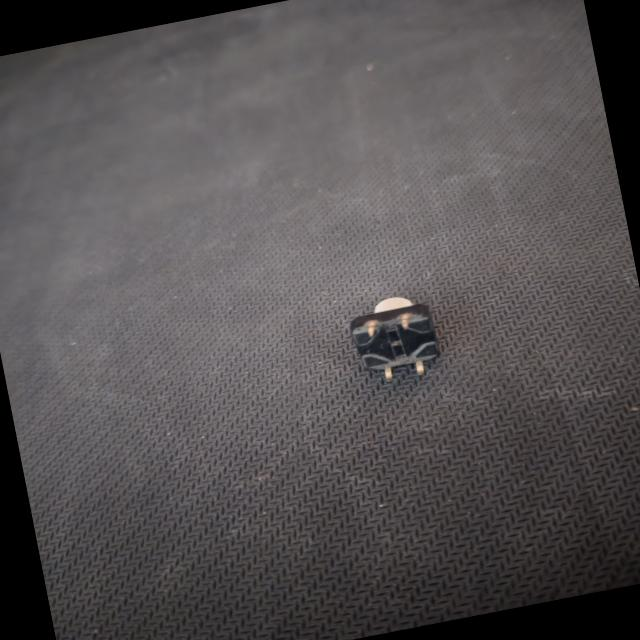switch: (341, 282, 456, 389)
